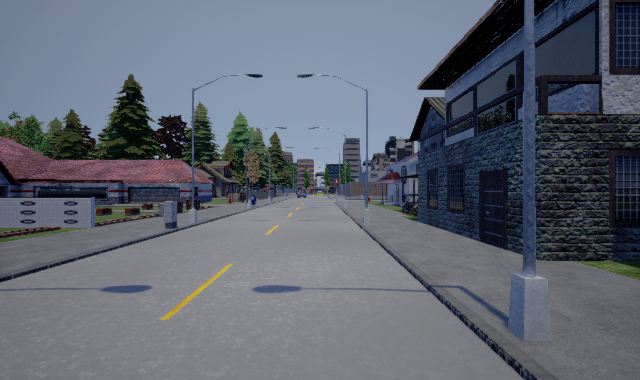traffic_light: (335, 180, 337, 189)
